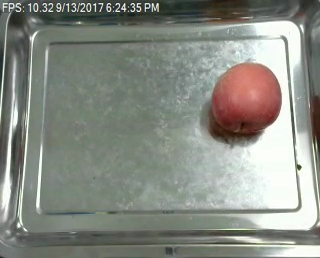Apple: (214, 60, 280, 135)
